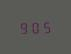five: (41, 19, 51, 33)
nine: (18, 20, 28, 34)
zero: (30, 20, 40, 33)
